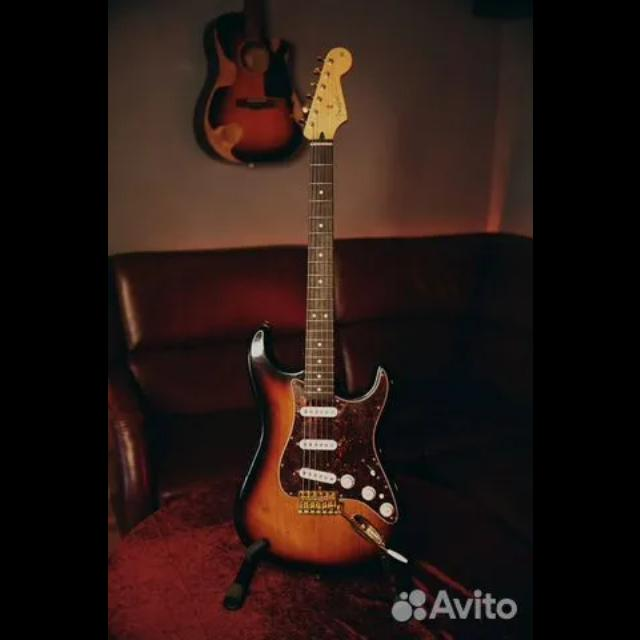Electric-Guitar: (230, 46, 408, 568)
